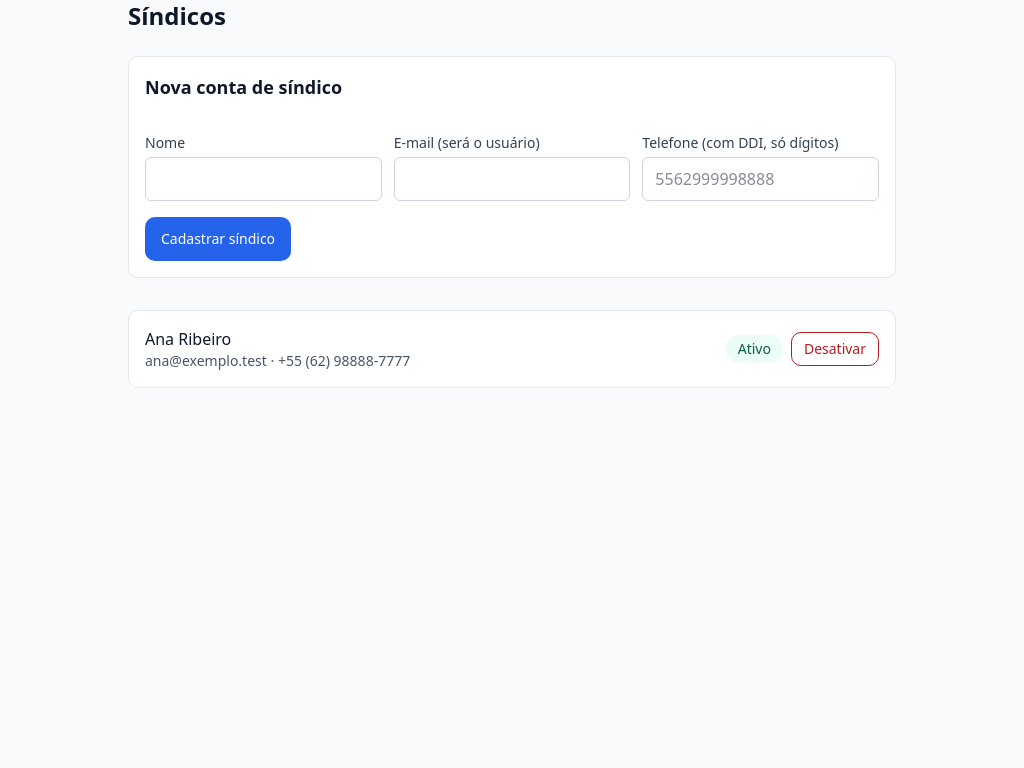
it: SyndicsPage › cadastra síndico e mostra o modal de credenciais com usuário = e-mail
Type "Bruno Alves" into the field labelled "Nome".
click(263, 179); type("Bruno Alves")  # box [145,157,382,201]
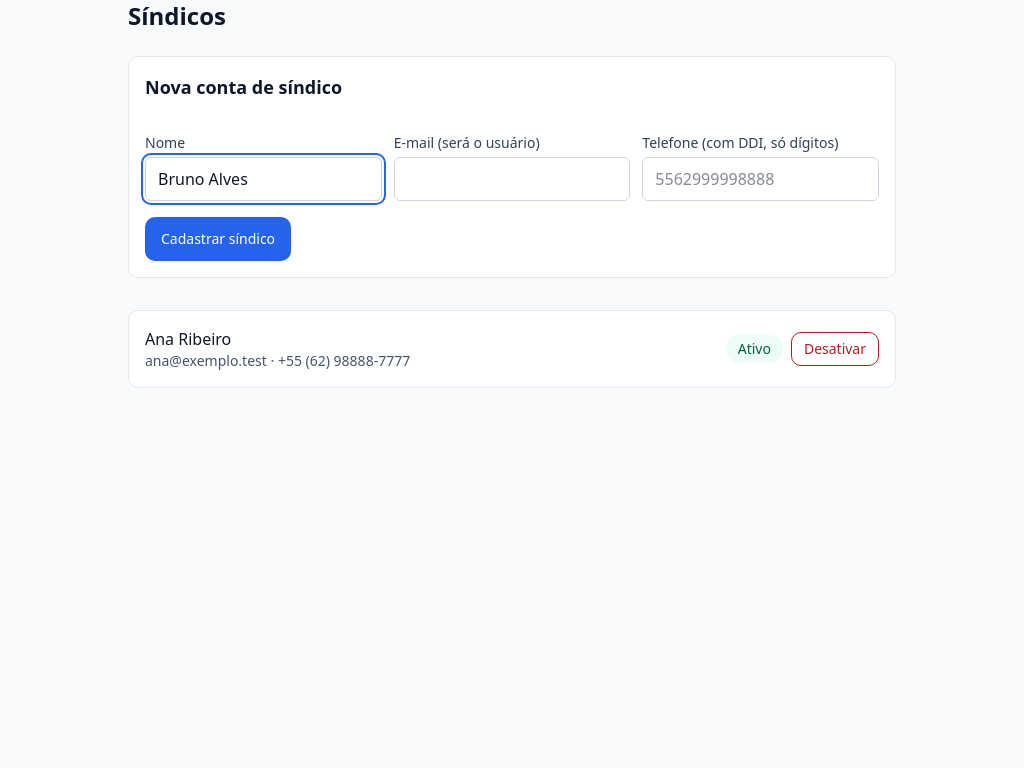
Type "bruno@exemplo.test" into the field labelled "E-mail (será o usuário)".
click(512, 179); type("bruno@exemplo.test")  # box [394,157,630,201]
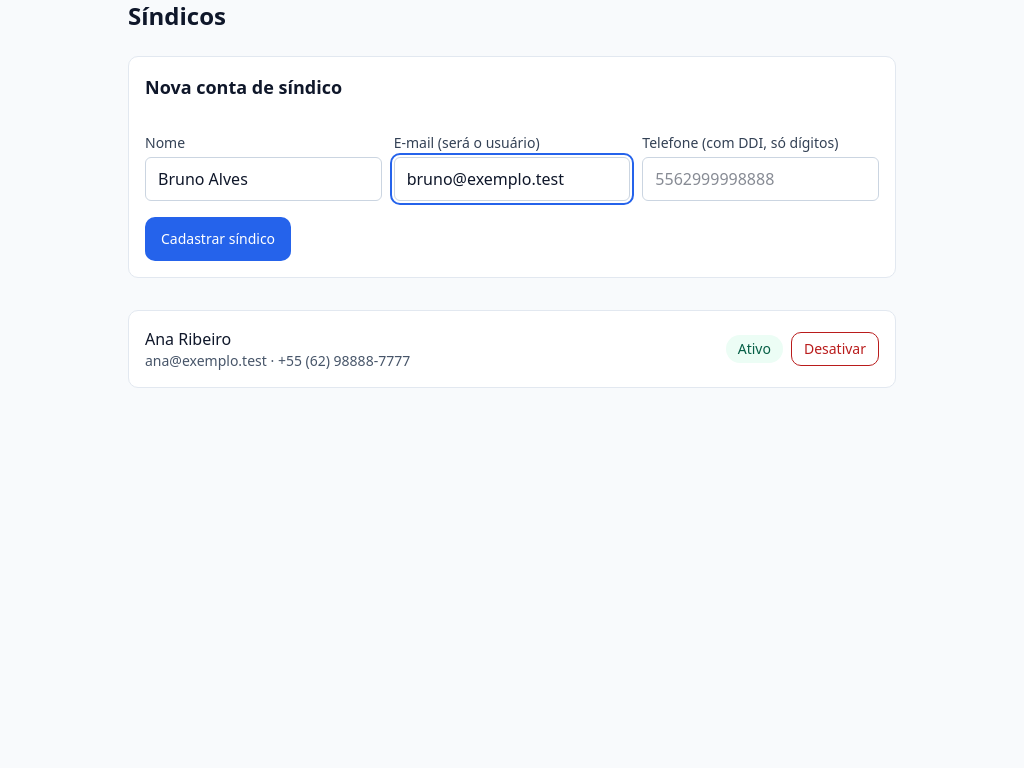
Type "5562977776666" into the field labelled "Telefone (com DDI, só dígitos)".
click(761, 179); type("5562977776666")  # box [642,157,879,201]
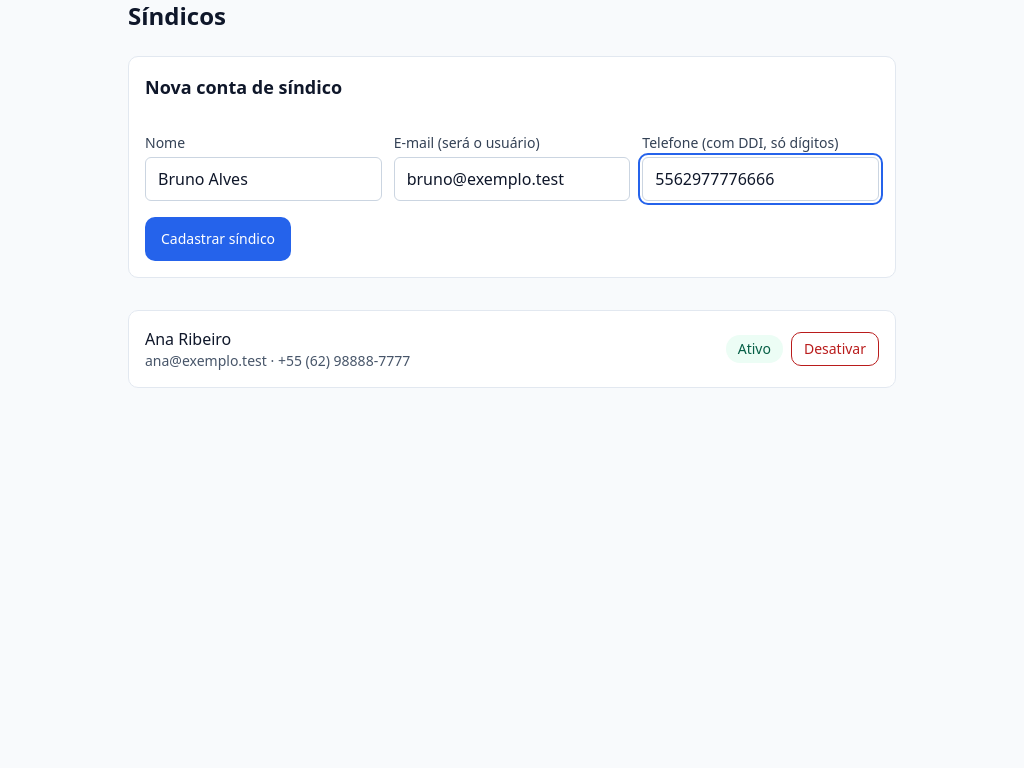
Click the button "Cadastrar síndico".
click(218, 239)  # box [145,217,291,261]
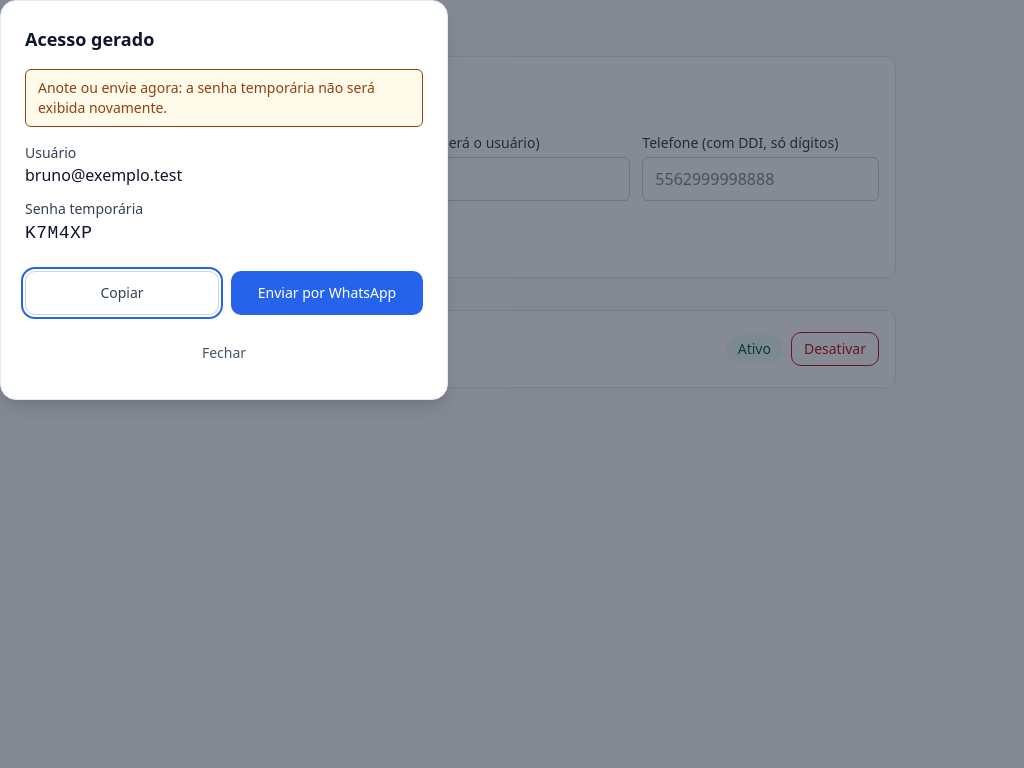
Now the text "bruno@exemplo.test" is shown, box [25,164,182,186]
Now the text "K7M4XP" is shown, box [25,223,92,243]
